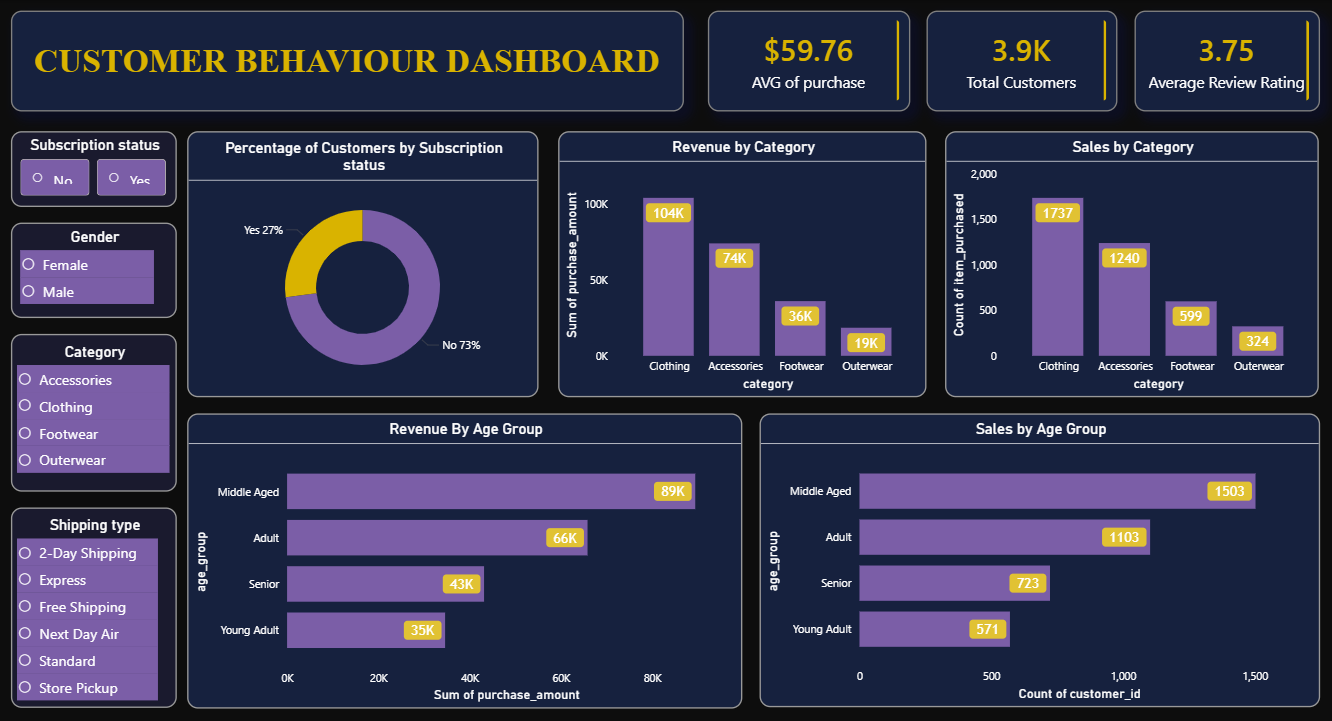

What the dashboard file says about the page in this screenshot:
{"tool":"powerbi","page":{"name":"Page 1","canvas":[1500,820],"ordinal":0},"visuals":[{"type":"cardVisual","fields":{"Data":["customer_behaviour customer.Average Review Rating"]},"box":[1265.8,11.8,206.8,112.3],"z":0},{"type":"cardVisual","fields":{"Data":["customer_behaviour customer.Average of Purchase Amount"]},"box":[790.2,11.8,226,112.3],"z":1000},{"type":"cardVisual","fields":{"Data":["customer_behaviour customer.Total Customers"]},"box":[1033.9,11.8,212.7,112.3],"z":2000},{"type":"textbox","box":[13.3,11.8,750.3,112.3],"z":3000},{"type":"clusteredColumnChart","title":"Revenue by Category","fields":{"Category":["customer_behaviour customer.category"],"Y":["Sum(customer_behaviour customer.purchase_amount)"]},"box":[623.3,146.2,410.6,296.9],"z":4000},{"type":"clusteredColumnChart","title":"Sales by Category","fields":{"Category":["customer_behaviour customer.category"],"Y":["CountNonNull(customer_behaviour customer.item_purchased)"]},"box":[1054.6,146.2,416.5,296.9],"z":5000},{"type":"donutChart","title":"Percentage of Customers by Subscription status","fields":{"Y":["CountNonNull(customer_behaviour customer.customer_id)"],"Category":["customer_behaviour customer.subscription_status"]},"box":[209.7,146.2,391.4,296.9],"z":6000},{"type":"clusteredBarChart","title":"Revenue By Age Group","fields":{"Category":["customer_behaviour customer.age_group"],"Y":["Sum(customer_behaviour customer.purchase_amount)"]},"box":[209.7,460.8,618.9,329.4],"z":7000},{"type":"clusteredBarChart","title":"Sales by Age Group ","fields":{"Category":["customer_behaviour customer.age_group"],"Y":["CountNonNull(customer_behaviour customer.customer_id)"]},"box":[847.8,460.8,624.8,327.9],"z":8000},{"type":"advancedSlicerVisual","fields":{"Values":["customer_behaviour customer.subscription_status"]},"box":[13.3,146.2,184.6,84.2],"z":9000},{"type":"listSlicer","title":"Gender","fields":{"Values":["customer_behaviour customer.gender"]},"box":[13.3,248.1,184.6,106.3],"z":10000},{"type":"listSlicer","title":"Category","fields":{"Values":["customer_behaviour customer.category"]},"box":[13.3,372.2,184.6,175.8],"z":11000},{"type":"listSlicer","title":"Shipping type","fields":{"Values":["customer_behaviour customer.shipping_type"]},"box":[13.3,565.7,184.6,223],"z":12000}]}

Visuals, with their boxes in screenshot pixels (x1, y1, x2, y2), scaled from the page's 1500x820 canvas onto the 1332x721 screenshot:
cardVisual - customer_behaviour customer.Average Review Rating: x1=1124 y1=10 x2=1308 y2=109
cardVisual - customer_behaviour customer.Average of Purchase Amount: x1=702 y1=10 x2=902 y2=109
cardVisual - customer_behaviour customer.Total Customers: x1=918 y1=10 x2=1107 y2=109
textbox: x1=12 y1=10 x2=678 y2=109
"Revenue by Category" clusteredColumnChart: x1=553 y1=129 x2=918 y2=390
"Sales by Category" clusteredColumnChart: x1=936 y1=129 x2=1306 y2=390
"Percentage of Customers by Subscription status" donutChart: x1=186 y1=129 x2=534 y2=390
"Revenue By Age Group" clusteredBarChart: x1=186 y1=405 x2=736 y2=695
"Sales by Age Group " clusteredBarChart: x1=753 y1=405 x2=1308 y2=693
advancedSlicerVisual - customer_behaviour customer.subscription_status: x1=12 y1=129 x2=176 y2=203
"Gender" listSlicer: x1=12 y1=218 x2=176 y2=312
"Category" listSlicer: x1=12 y1=327 x2=176 y2=482
"Shipping type" listSlicer: x1=12 y1=497 x2=176 y2=693
